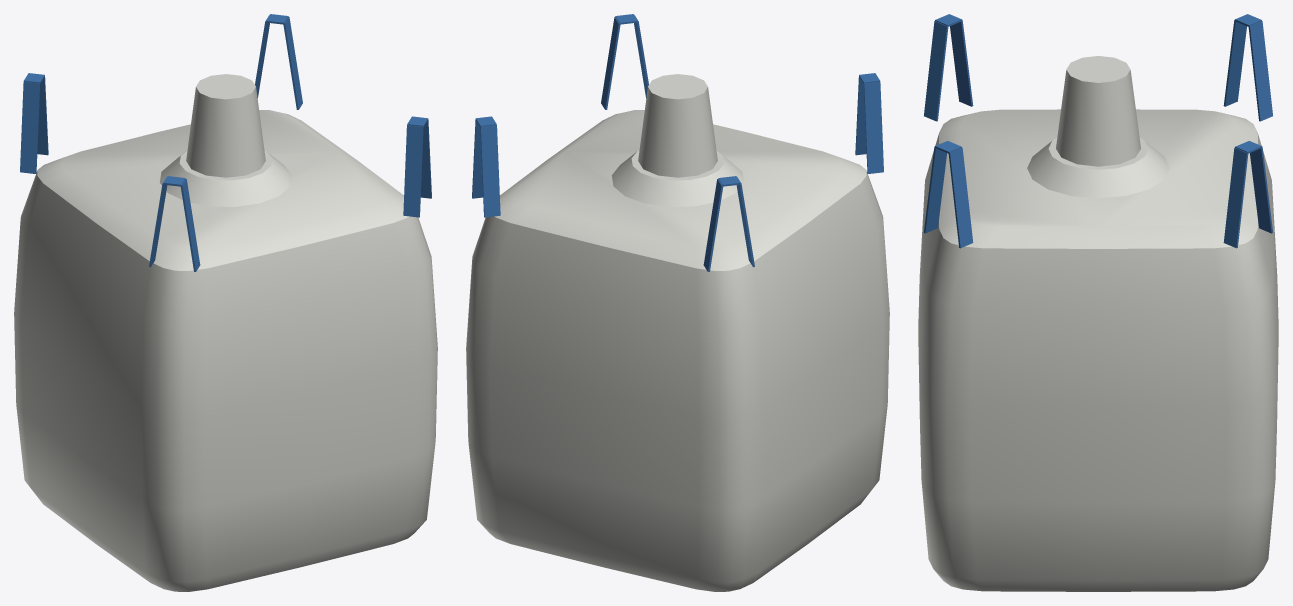
The model's file is SM_BulkBag.fbx.
3 views of the same model, side by side, from view 1: azimuth 30°, elevation 25°; view 2: azimuth 150°, elevation 25°; view 3: azimuth 270°, elevation 25° (orthographic). The views are drawn at different scales.
Parts seen in each view (by area): view 1: BB_BulkBag; view 2: BB_BulkBag; view 3: BB_BulkBag.
Boxes of the visible parts, left/top/right/bottom form: BB_BulkBag: left=14, top=14, right=437, bottom=591; BB_BulkBag: left=466, top=14, right=889, bottom=591; BB_BulkBag: left=918, top=14, right=1278, bottom=591.
Bounding box in the file's own units: 101 × 140 × 101.
